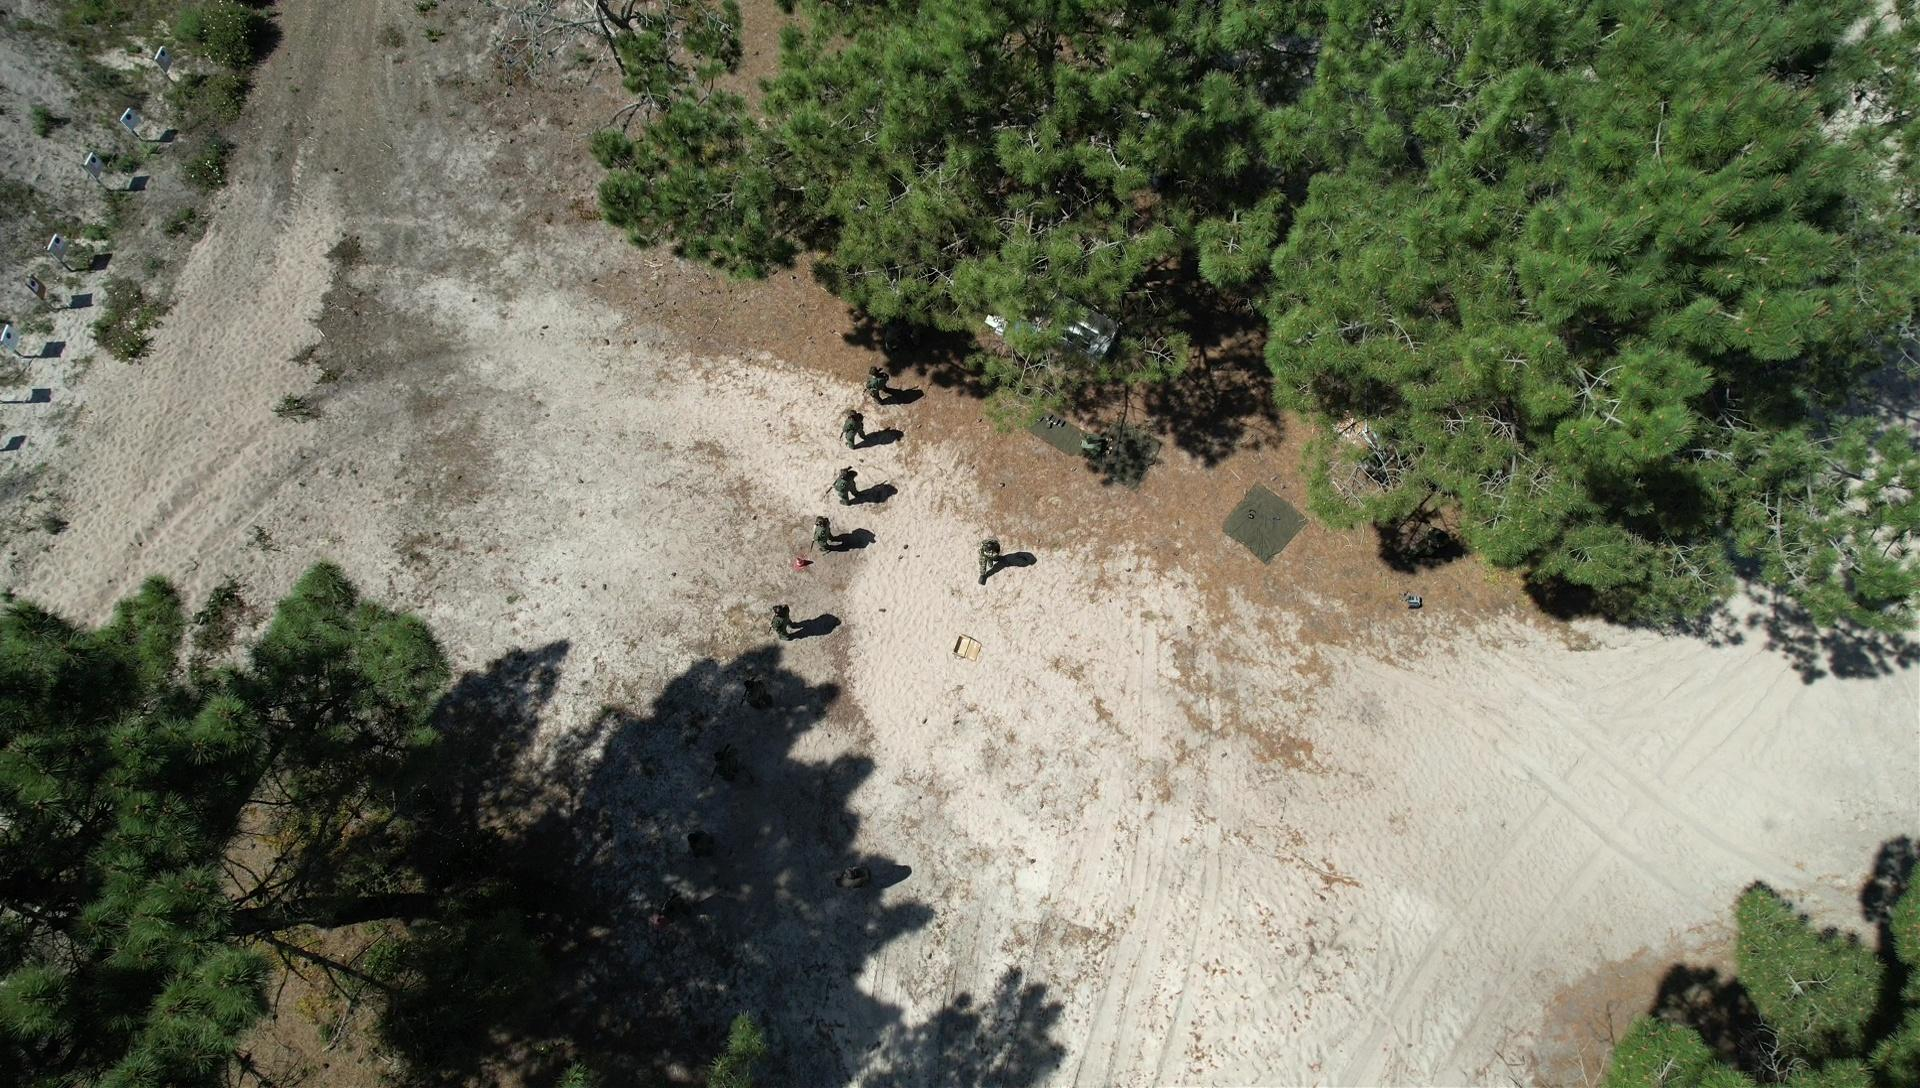Soldier: (705, 739, 760, 795), (832, 859, 891, 903), (972, 531, 1010, 586), (837, 409, 877, 458), (767, 597, 808, 644), (831, 466, 870, 510), (683, 828, 724, 869), (740, 677, 777, 719), (864, 361, 898, 406), (811, 514, 843, 560)
